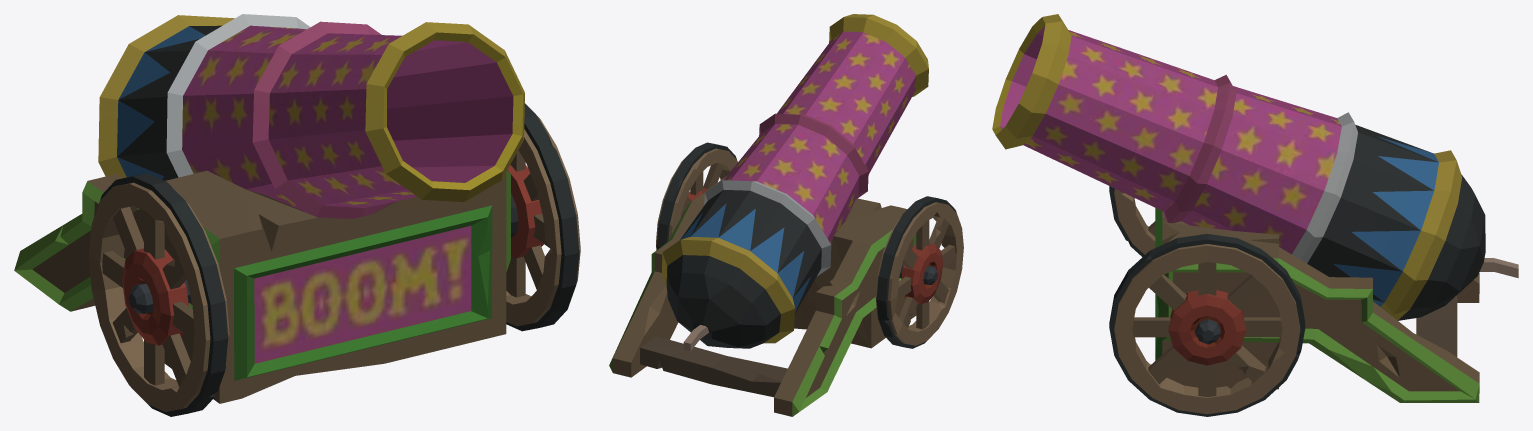
File: SM_Wep_Cannon_01.glb
The picture shows the model from 3 angles, left to right: view 1: azimuth 30°, elevation 25°; view 2: azimuth 150°, elevation 25°; view 3: azimuth 270°, elevation 25°; orthographic projection. The views are drawn at different scales.
Visible parts, largest first — view 1: SM_Wep_Cannon_01; view 2: SM_Wep_Cannon_01; view 3: SM_Wep_Cannon_01.
Part boxes in pixels (bbox=[...]): SM_Wep_Cannon_01: bbox=[14, 14, 580, 416]; SM_Wep_Cannon_01: bbox=[609, 14, 963, 416]; SM_Wep_Cannon_01: bbox=[992, 14, 1518, 416].
Bounding box in the file's own units: 164 × 160 × 234.
1 material, 1 textured.
